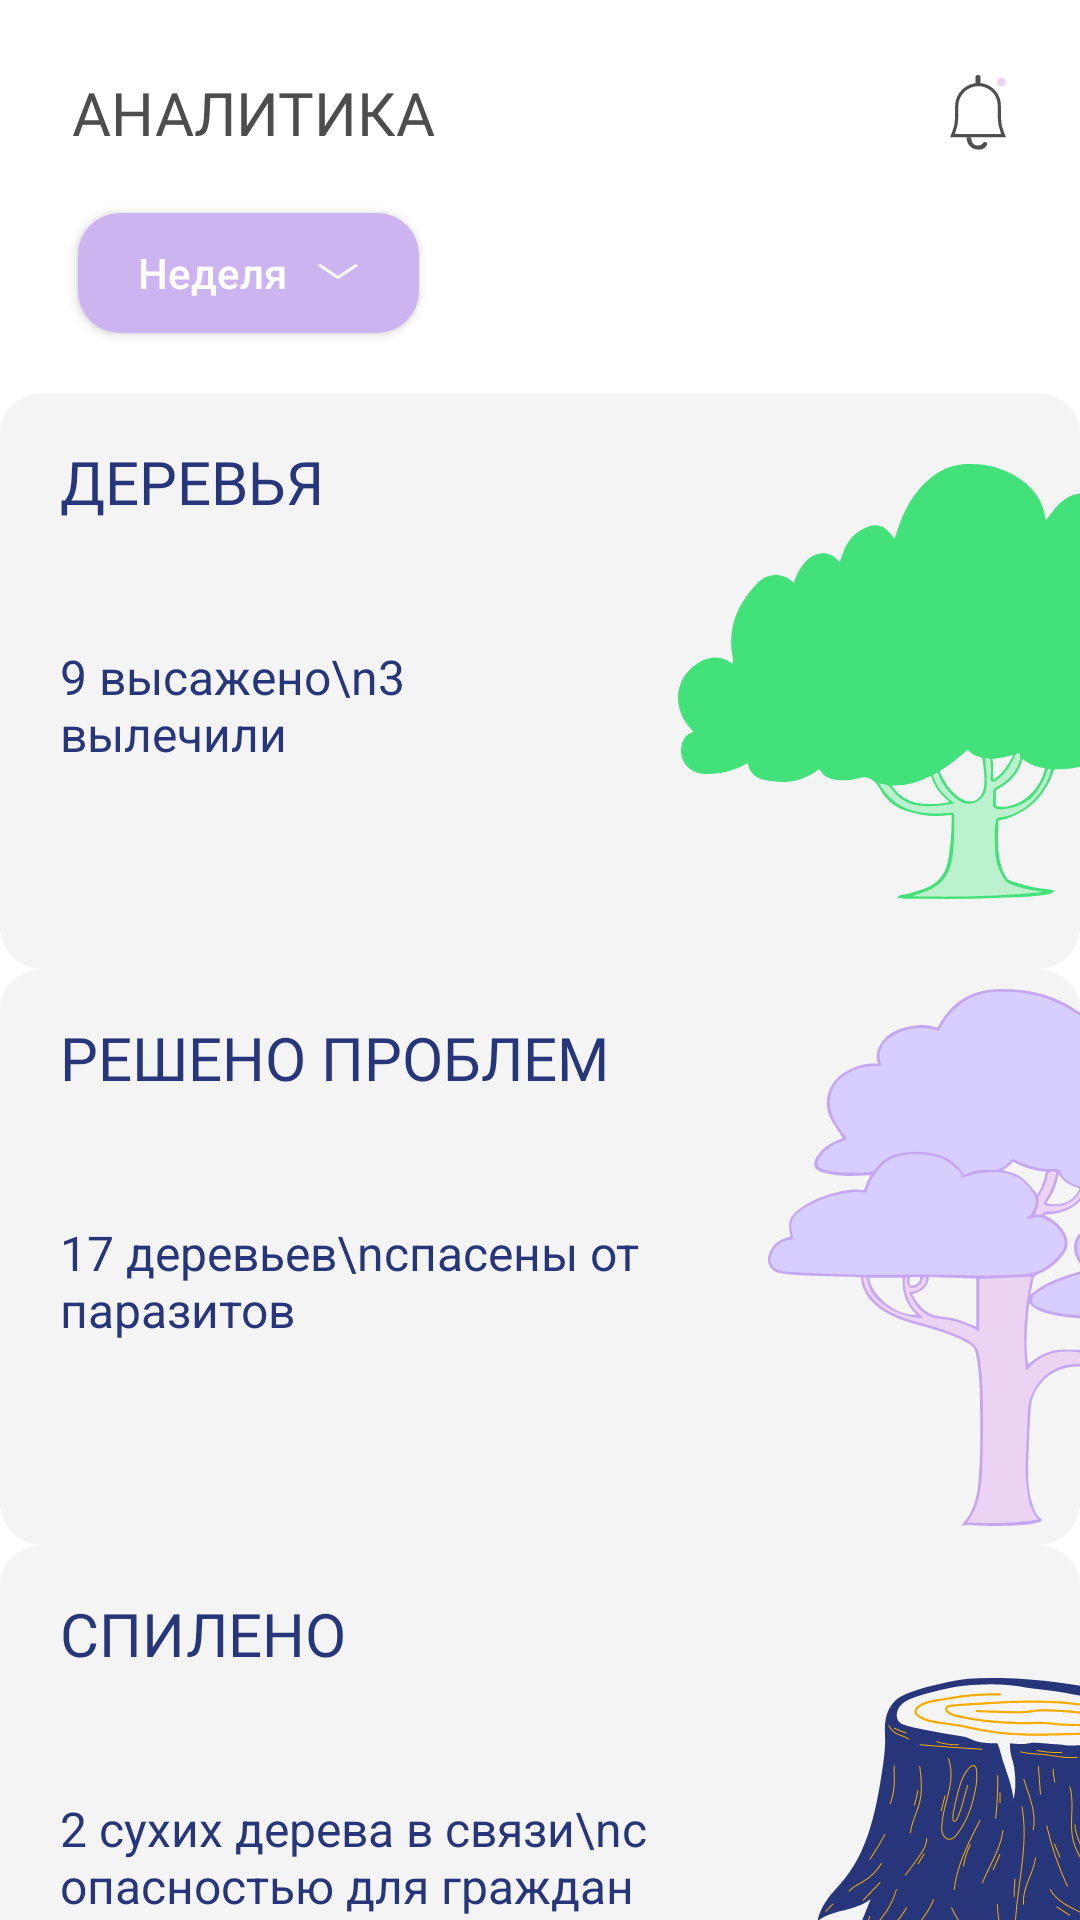

Point at icon controls on the screen. Image size 1080 × 1920, points as point (x, y).
notifications: point (978, 112)
